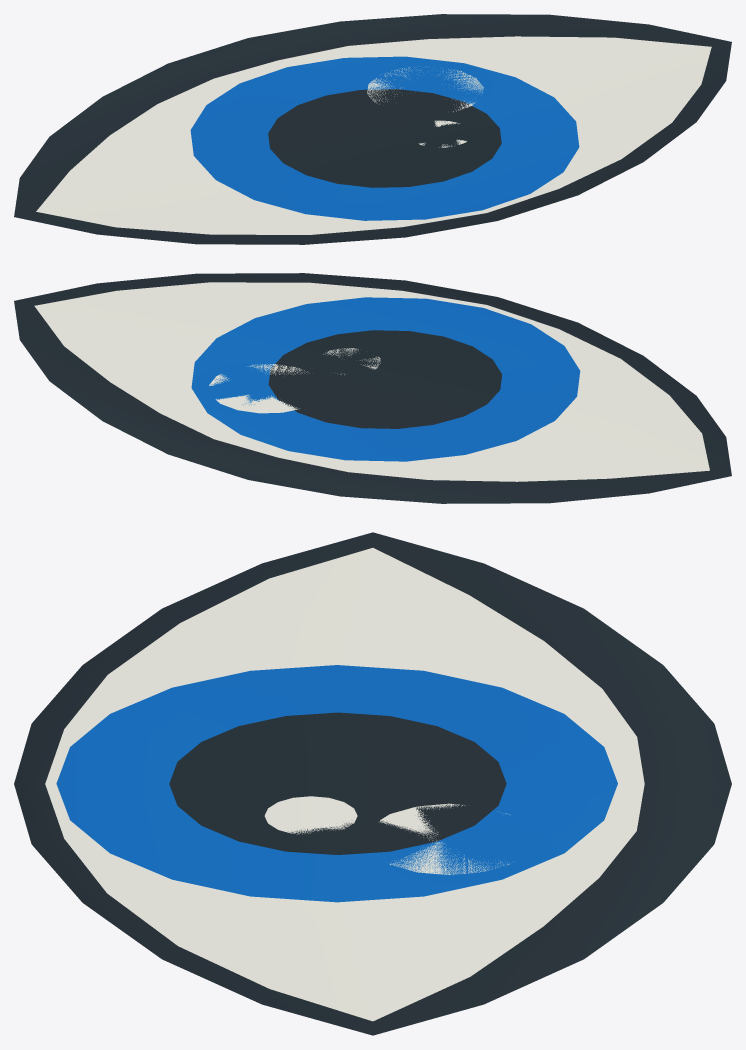
File: top_eye.fbx
3 views of the same model, one above another, from view 1: azimuth 30°, elevation 25°; view 2: azimuth 150°, elevation 25°; view 3: azimuth 270°, elevation 25° (orthographic). The views are drawn at different scales.
Visible parts, largest first — view 1: top_eye; view 2: top_eye; view 3: top_eye.
Boxes of the visible parts, x1=… form: top_eye: x1=14, y1=14, x2=731, y2=244; top_eye: x1=14, y1=273, x2=731, y2=503; top_eye: x1=14, y1=532, x2=731, y2=1035.
Bounding box in the file's own units: 5.48 × 0 × 3.3.
